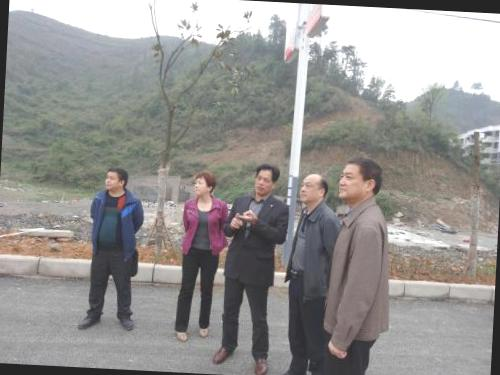no_helmet: (335, 152, 384, 204), (297, 168, 331, 210), (250, 160, 282, 200), (100, 162, 132, 197), (188, 166, 219, 201)
